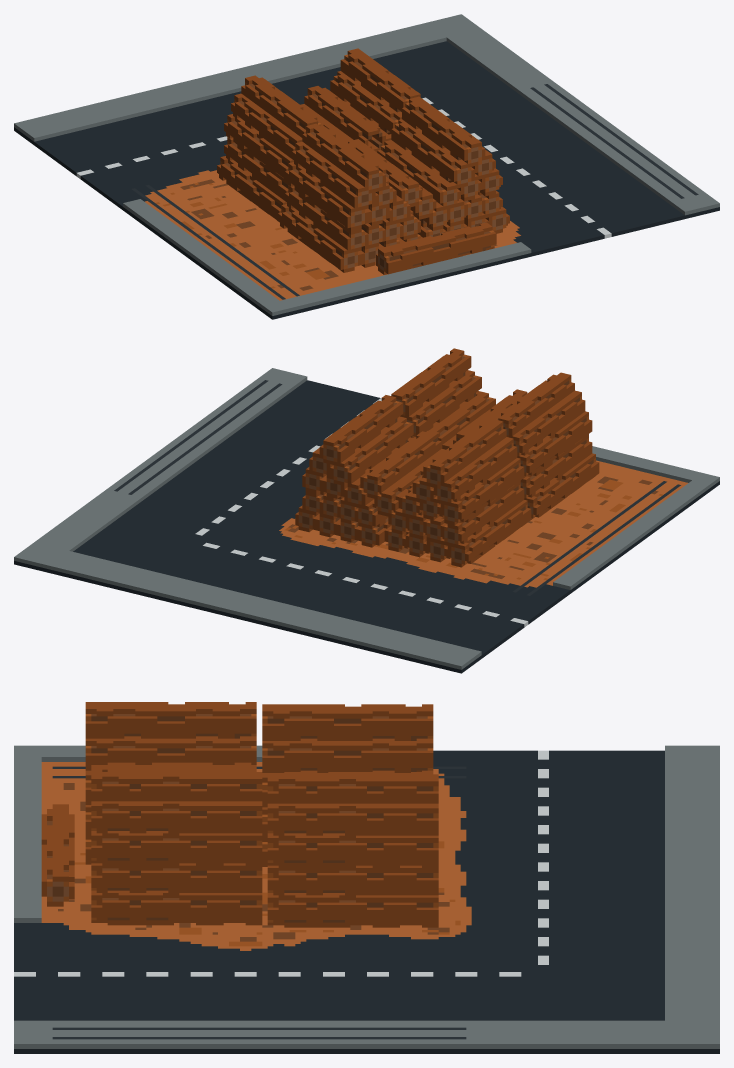
The model's file is WoodPickup.obj.
3 views of the same model, one above another, from view 1: azimuth 30°, elevation 25°; view 2: azimuth 150°, elevation 25°; view 3: azimuth 270°, elevation 25° (orthographic). The views are drawn at different scales.
Size of the model in its own units: 12.8 by 2.7 by 12.8.
1 material, 1 textured.
